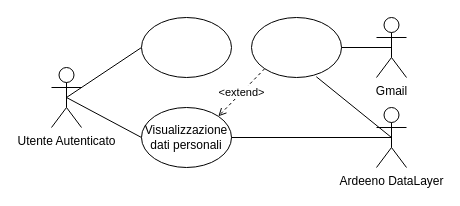
This 460x206 diagram has some shape labels left out. The centre of each missing label's shape, as x and y in pixels:
Logout: point 186,47
Modifica dati personali: point 296,47
